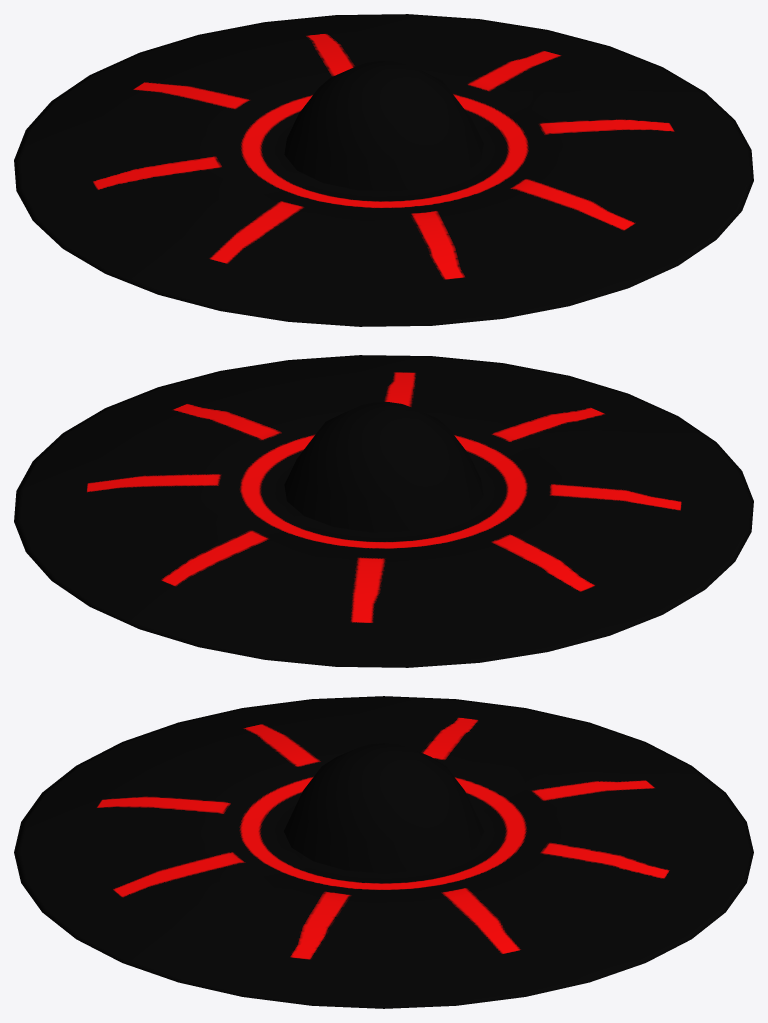
File: UFO.fbx
3 views of the same model, one above another, from view 1: azimuth 30°, elevation 25°; view 2: azimuth 150°, elevation 25°; view 3: azimuth 270°, elevation 25° (orthographic).
Parts seen in each view (by area): view 1: UFO; view 2: UFO; view 3: UFO.
Boxes of the visible parts, bbox=[...] form: UFO: bbox=[14, 14, 753, 326]; UFO: bbox=[14, 355, 753, 667]; UFO: bbox=[14, 696, 753, 1008].
Size of the model in its own units: 1298 by 236 by 1298.
